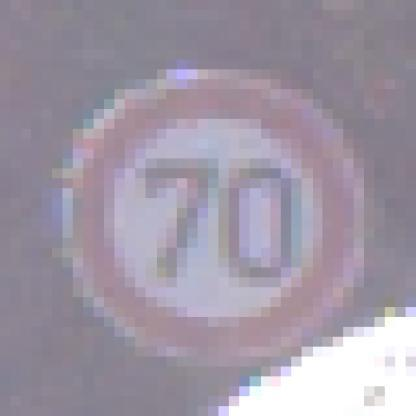Speed Limit -70-: (70, 57, 362, 351)
